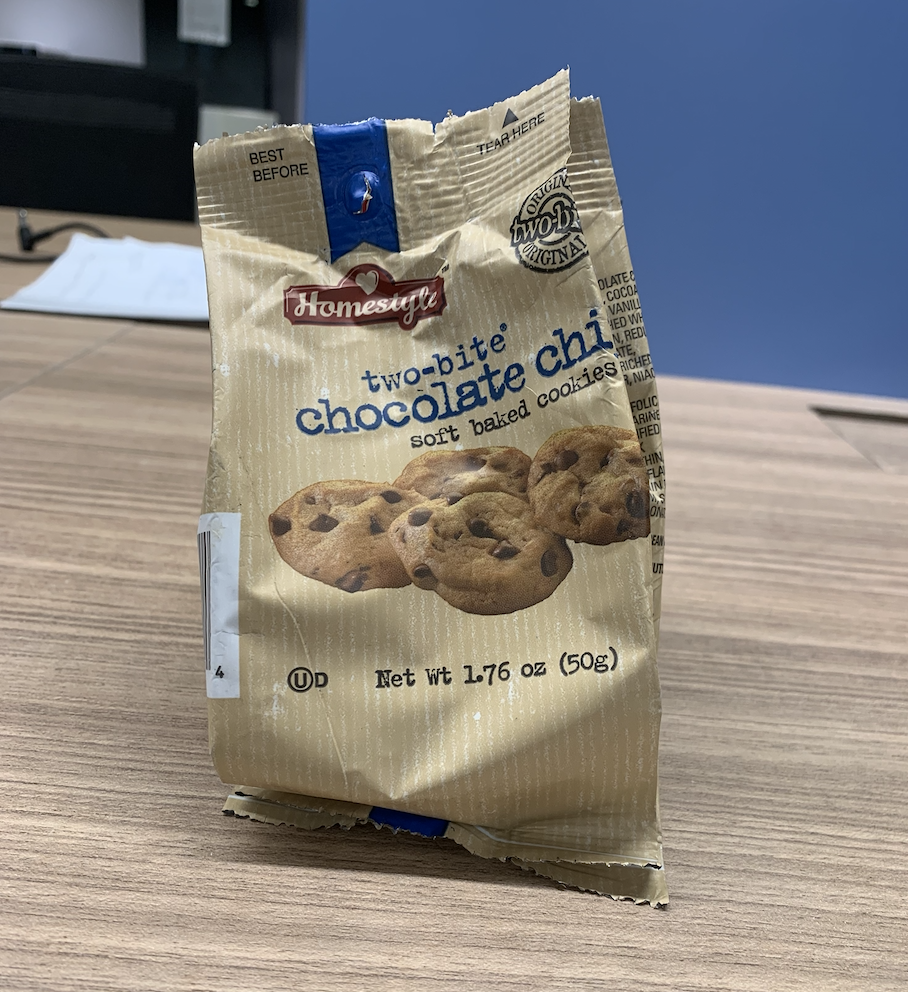cookies_1g-99g: (238, 146, 645, 811)
